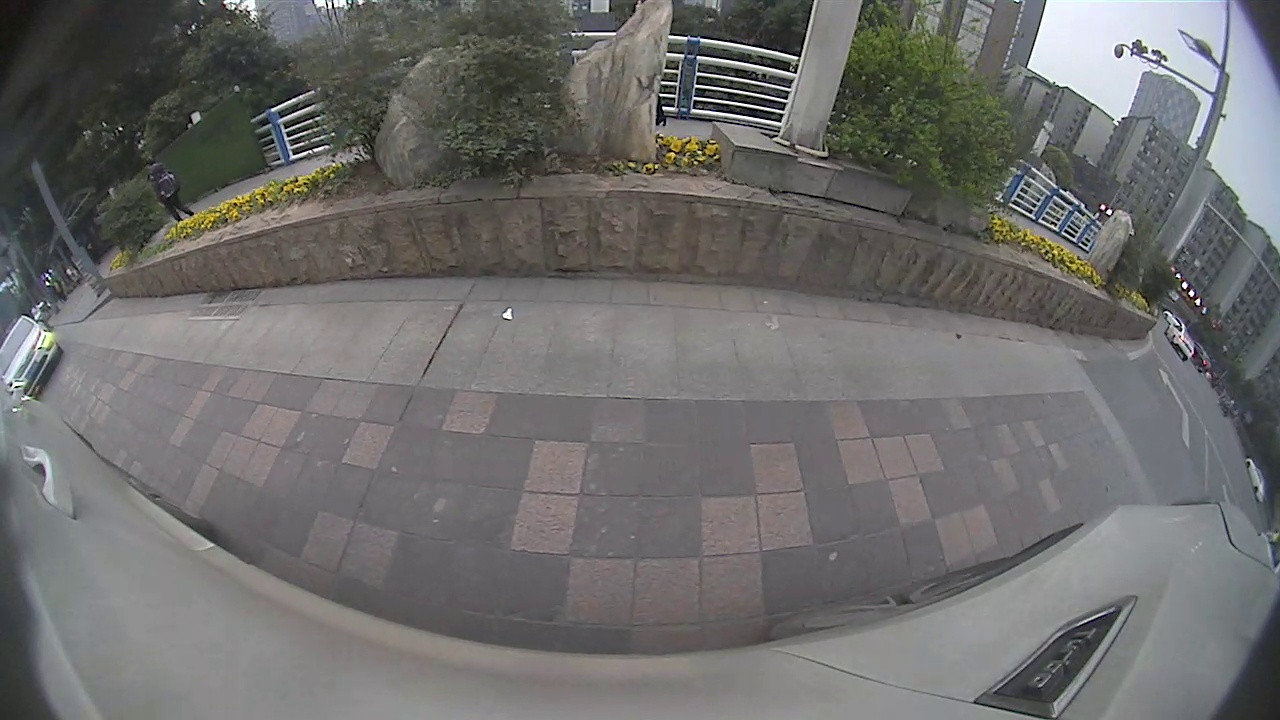car: (1, 313, 63, 397)
